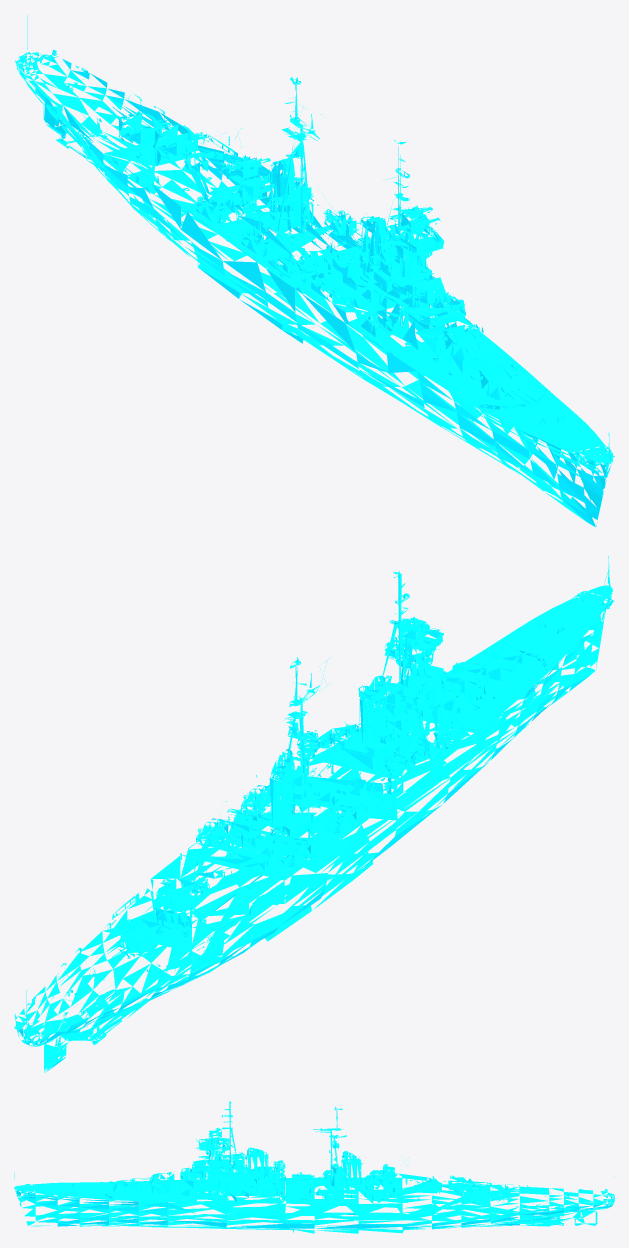
Rendered from PRSC558.glb.
3 renders of one model, top to bottom at view 1: azimuth 30°, elevation 25°; view 2: azimuth 150°, elevation 25°; view 3: azimuth 270°, elevation 25°, orthographic. The views are drawn at different scales.
Visible parts, largest first — view 1: hull, turret; view 2: hull, turret; view 3: hull, turret.
Boxes of the visible parts, x1=… form: hull: x1=14, y1=15, x2=614, y2=527; turret: x1=105, y1=106, x2=535, y2=404; hull: x1=14, y1=556, x2=614, y2=1072; turret: x1=106, y1=642, x2=535, y2=959; hull: x1=14, y1=1101, x2=614, y2=1233; turret: x1=96, y1=1167, x2=526, y2=1202.
Bounding box in the file's own units: 1.52 × 3.22 × 14.01.
